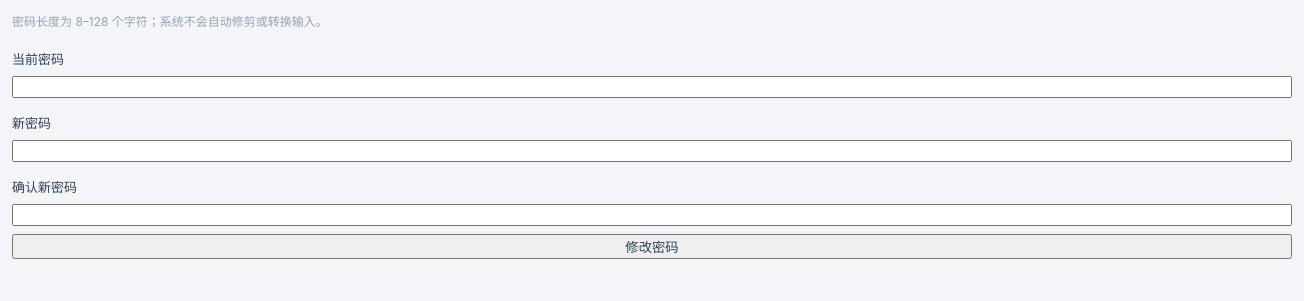
Test case: LocalPasswordChangeForm › blocks out-of-range new passwords before sending them
In the password field labelled "当前密码": (652,87) [12,76,1292,98], type "current-password"
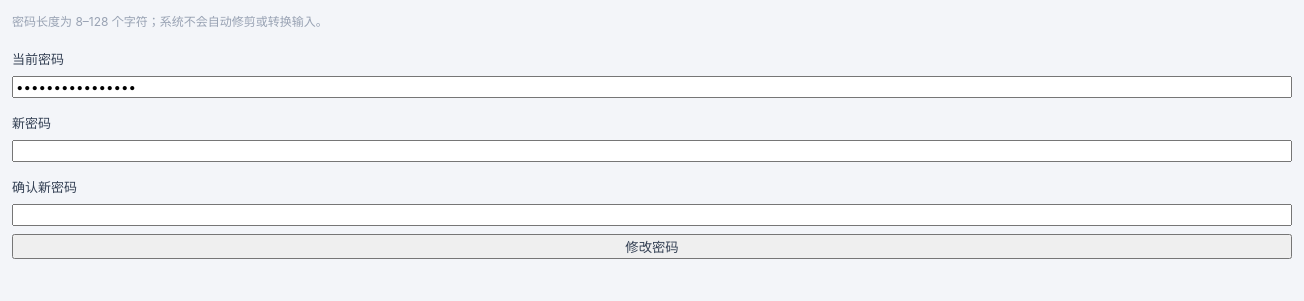
In the password field labelled "新密码": (652,151) [12,140,1292,162], type "short"
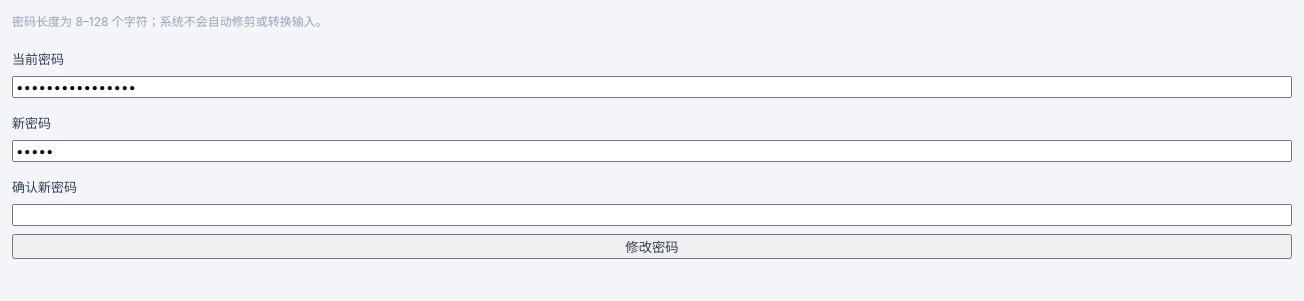
In the password field labelled "确认新密码": (652,215) [12,204,1292,226], type "short"
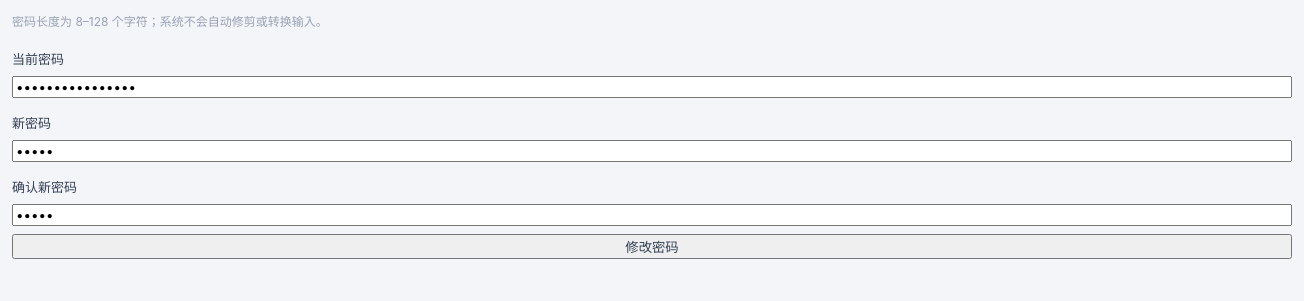
Submit the form
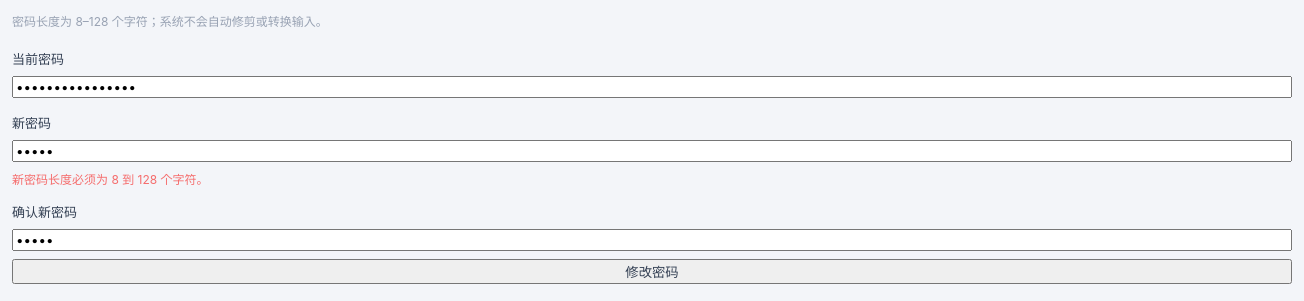
Expected: the form shows "新密码长度必须为 8 到 128 个字符", [12,172,209,187]
